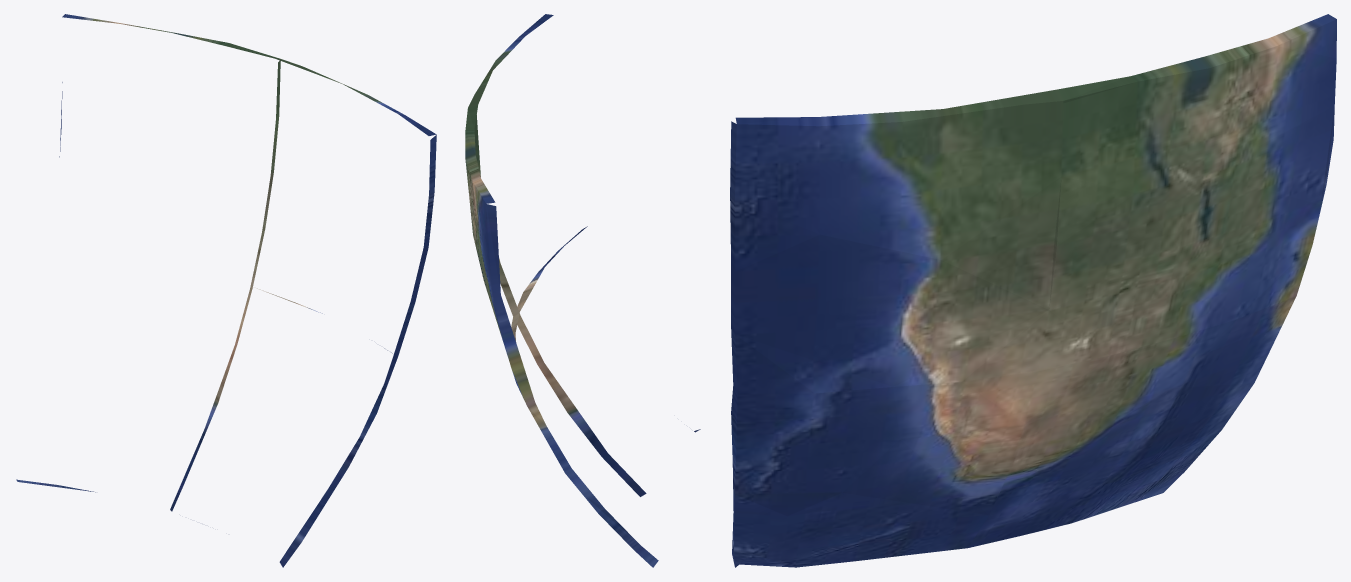
3 renders of one model, left to right at view 1: azimuth 30°, elevation 25°; view 2: azimuth 150°, elevation 25°; view 3: azimuth 270°, elevation 25°, orthographic. The views are drawn at different scales.
Bounding box in the file's own units: 3239305 × 4566206 × 4550624.
Materials: 1 (1 with a texture image).
